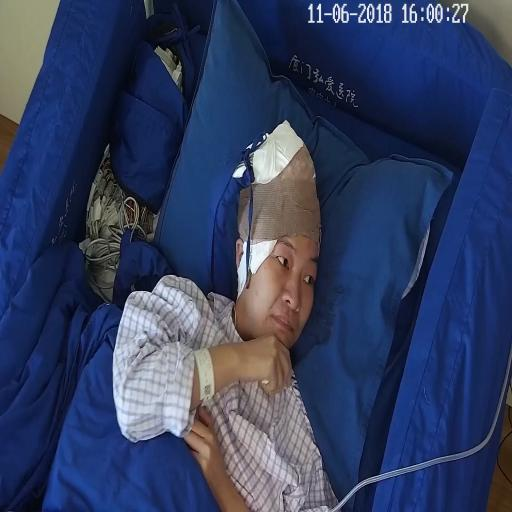Seizure: (226, 122, 325, 346)
